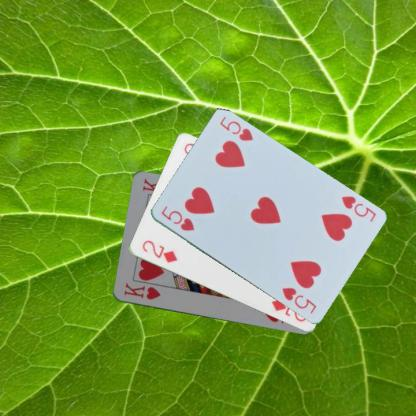2d: (139, 237, 179, 264)
5h: (338, 193, 377, 224), (158, 203, 196, 232)
Kh: (121, 280, 161, 301)
